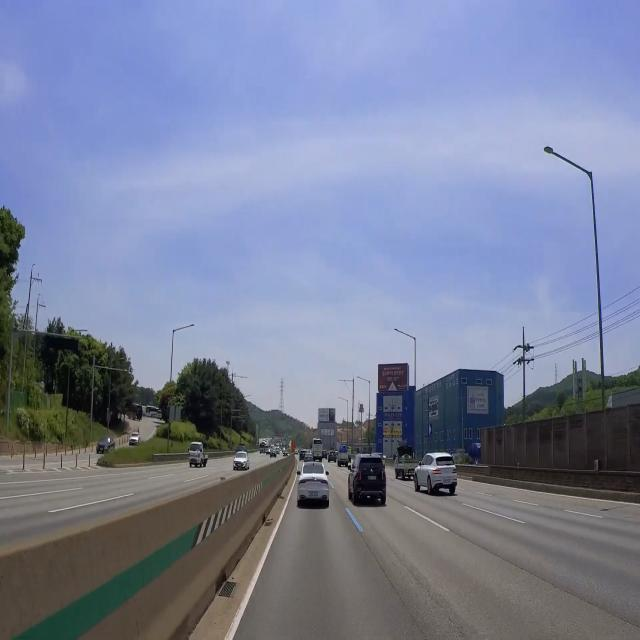car: (308, 489, 320, 499), (367, 475, 378, 483), (443, 478, 453, 486), (236, 462, 243, 470), (191, 455, 197, 463), (409, 468, 415, 474), (99, 447, 103, 453)
